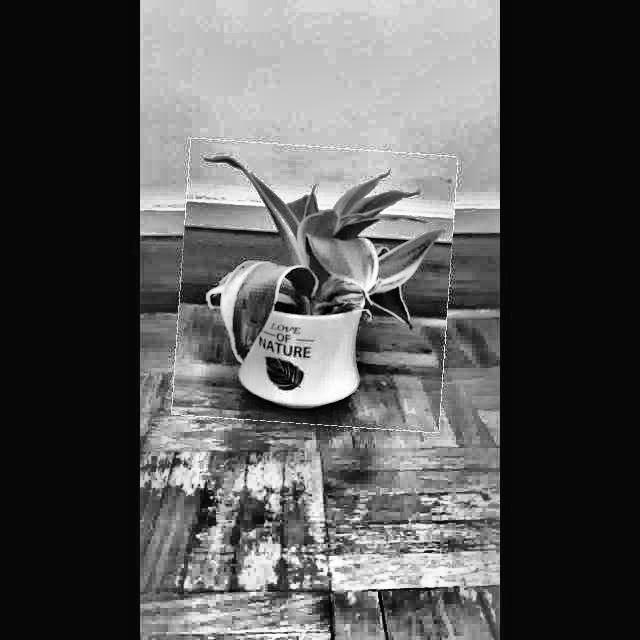plants: (176, 142, 454, 428)
